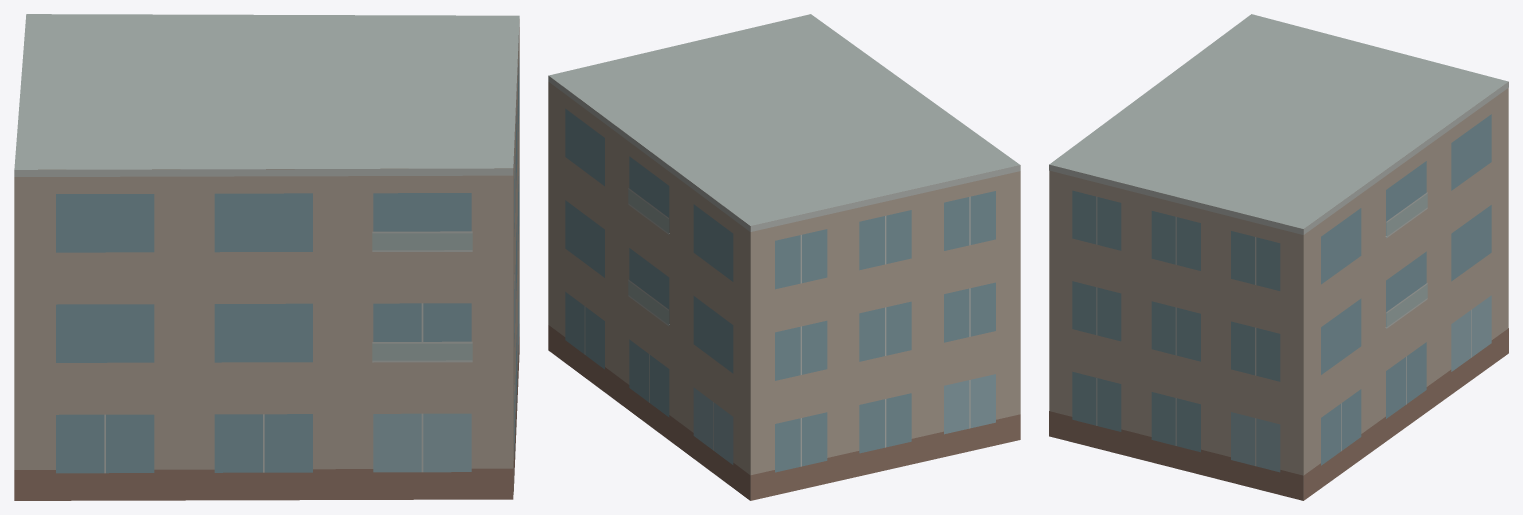
Rendered from survey-upis-32949962.glb.
3 views of the same model, side by side, from view 1: azimuth 30°, elevation 25°; view 2: azimuth 150°, elevation 25°; view 3: azimuth 270°, elevation 25° (orthographic). The views are drawn at different scales.
Parts seen in each view (by area): view 1: survey-upis-32949962.tmp; view 2: survey-upis-32949962.tmp; view 3: survey-upis-32949962.tmp.
Part boxes in pixels (x1,y1,x2,y2): survey-upis-32949962.tmp: [14, 14, 519, 500]; survey-upis-32949962.tmp: [548, 14, 1020, 500]; survey-upis-32949962.tmp: [1049, 14, 1508, 500].
Size of the model in its own units: 18.85 by 11.1 by 17.02.
